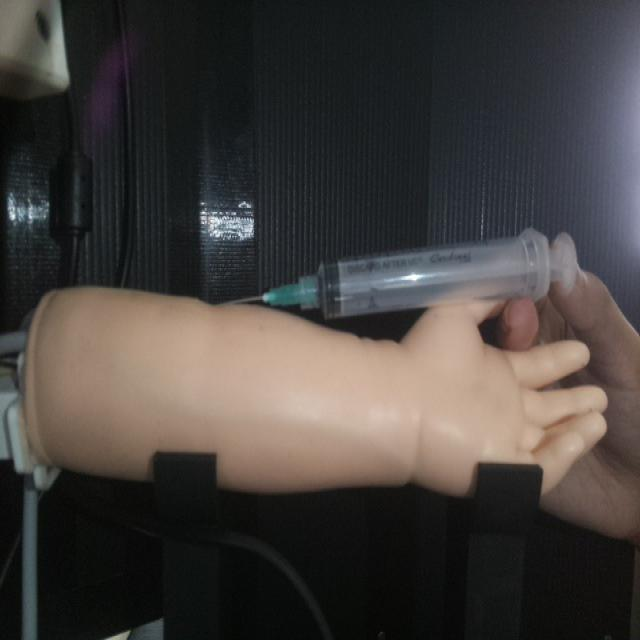Below 15 degrees: (224, 224, 579, 321)
